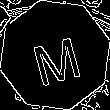M_N: (27, 25, 83, 85)
